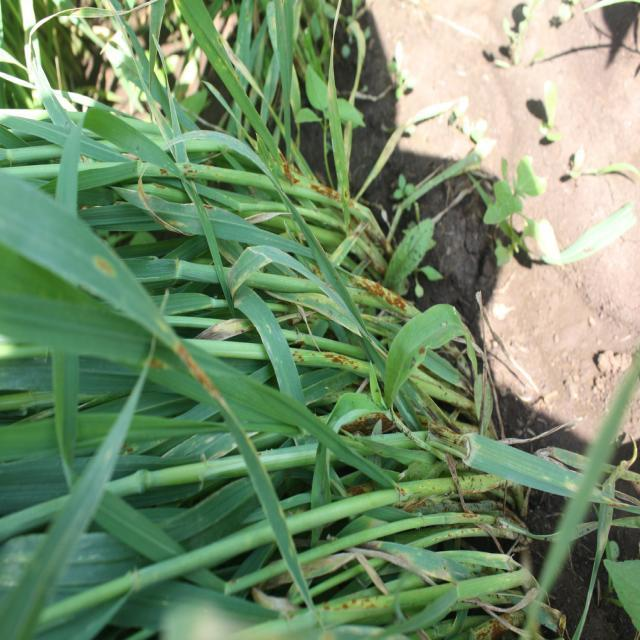wheat-stemrust: (275, 157, 355, 210), (166, 341, 222, 405), (69, 249, 133, 288), (355, 279, 414, 316), (307, 599, 382, 624), (289, 346, 365, 369)
